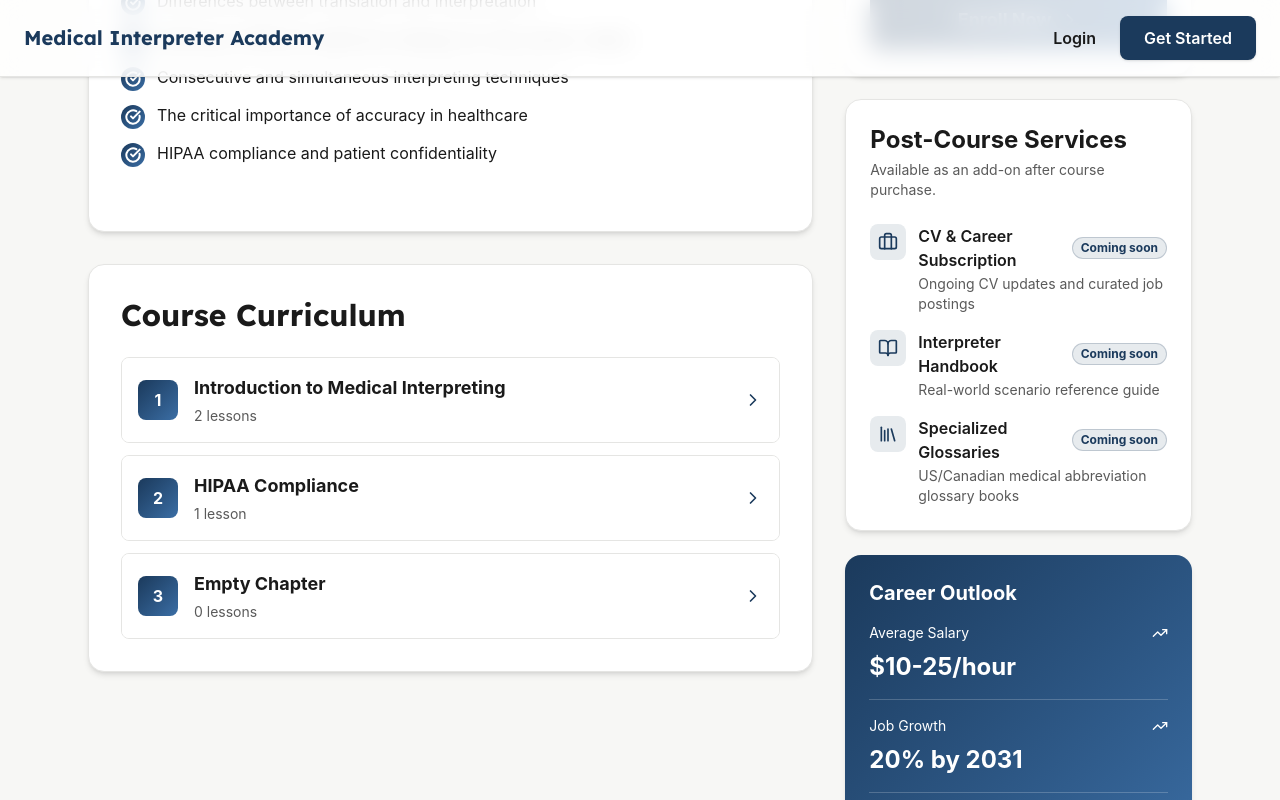
Test case: CourseDetail Page › Chapter Accordion › should expand chapter when clicked
(page scrolled)
Check: the heading "Introduction to Medical Interpreting" is shown, box top-left (194, 377), bottom-right (506, 398)
Check: the text "lesson 1: what is medical interpreting" is not shown
# Click to expand
Click the button "1 Introduction to Medical Interpreting 2 lessons".
click(451, 400)  # box top-left (122, 358), bottom-right (779, 442)
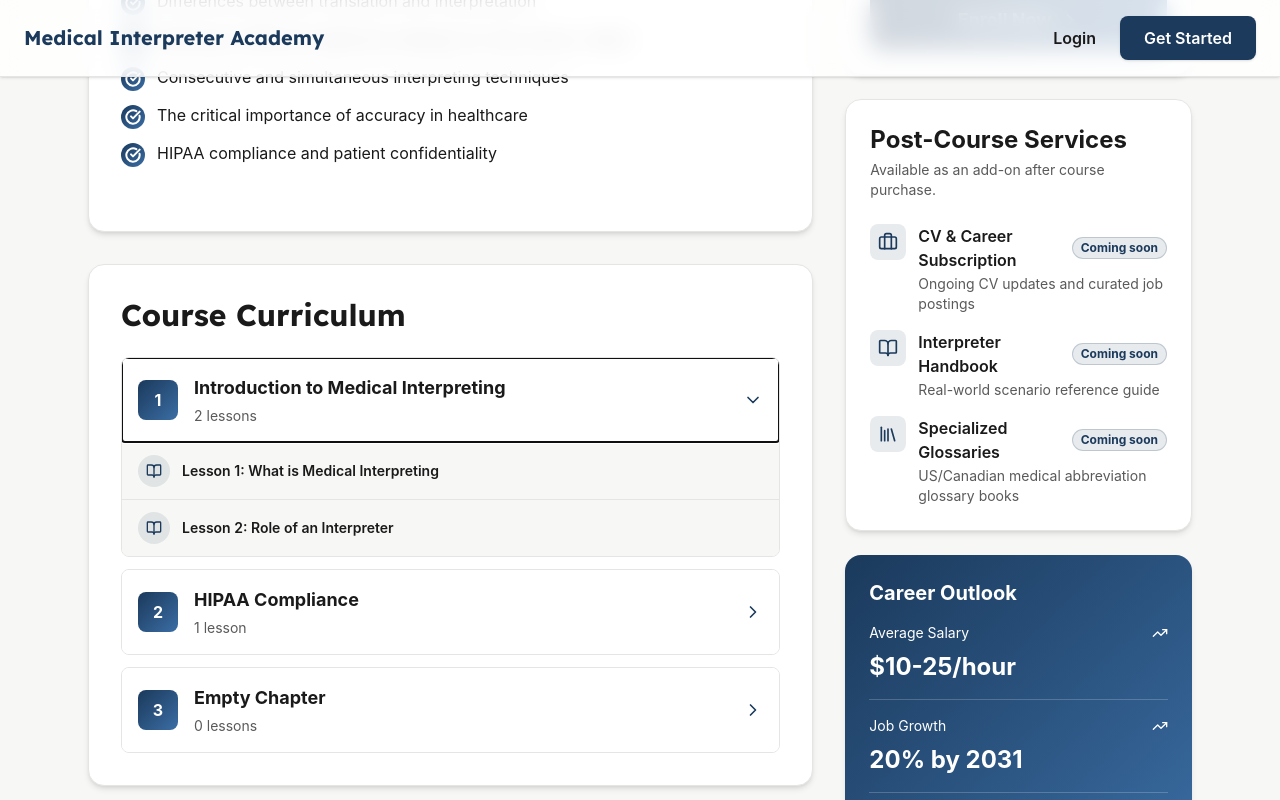
Check: the text "Lesson 1: What is Medical Interpreting" is shown, box top-left (182, 462), bottom-right (439, 479)
Check: the text "Lesson 2: Role of an Interpreter" is shown, box top-left (182, 519), bottom-right (394, 536)
